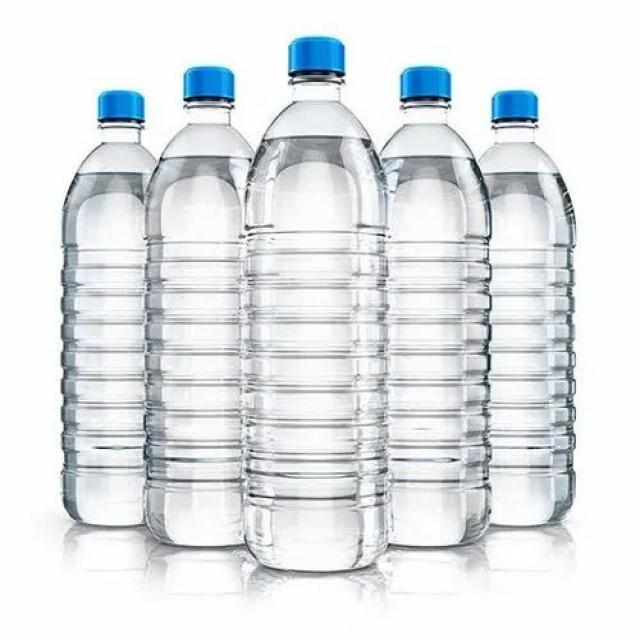bottle: (64, 34, 602, 574)
